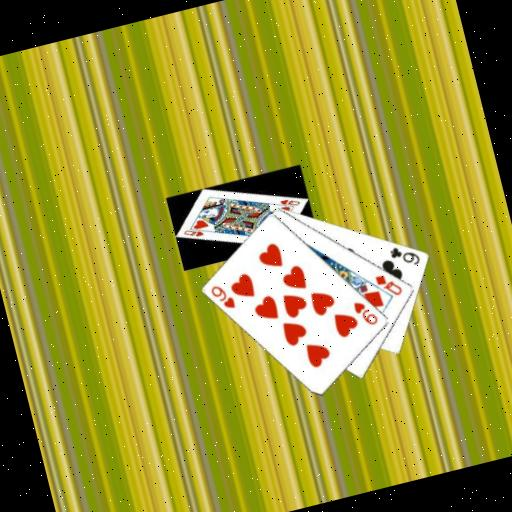6C: (386, 239, 423, 272)
9H: (349, 294, 381, 331), (207, 279, 239, 315)
QD: (371, 268, 405, 302)
